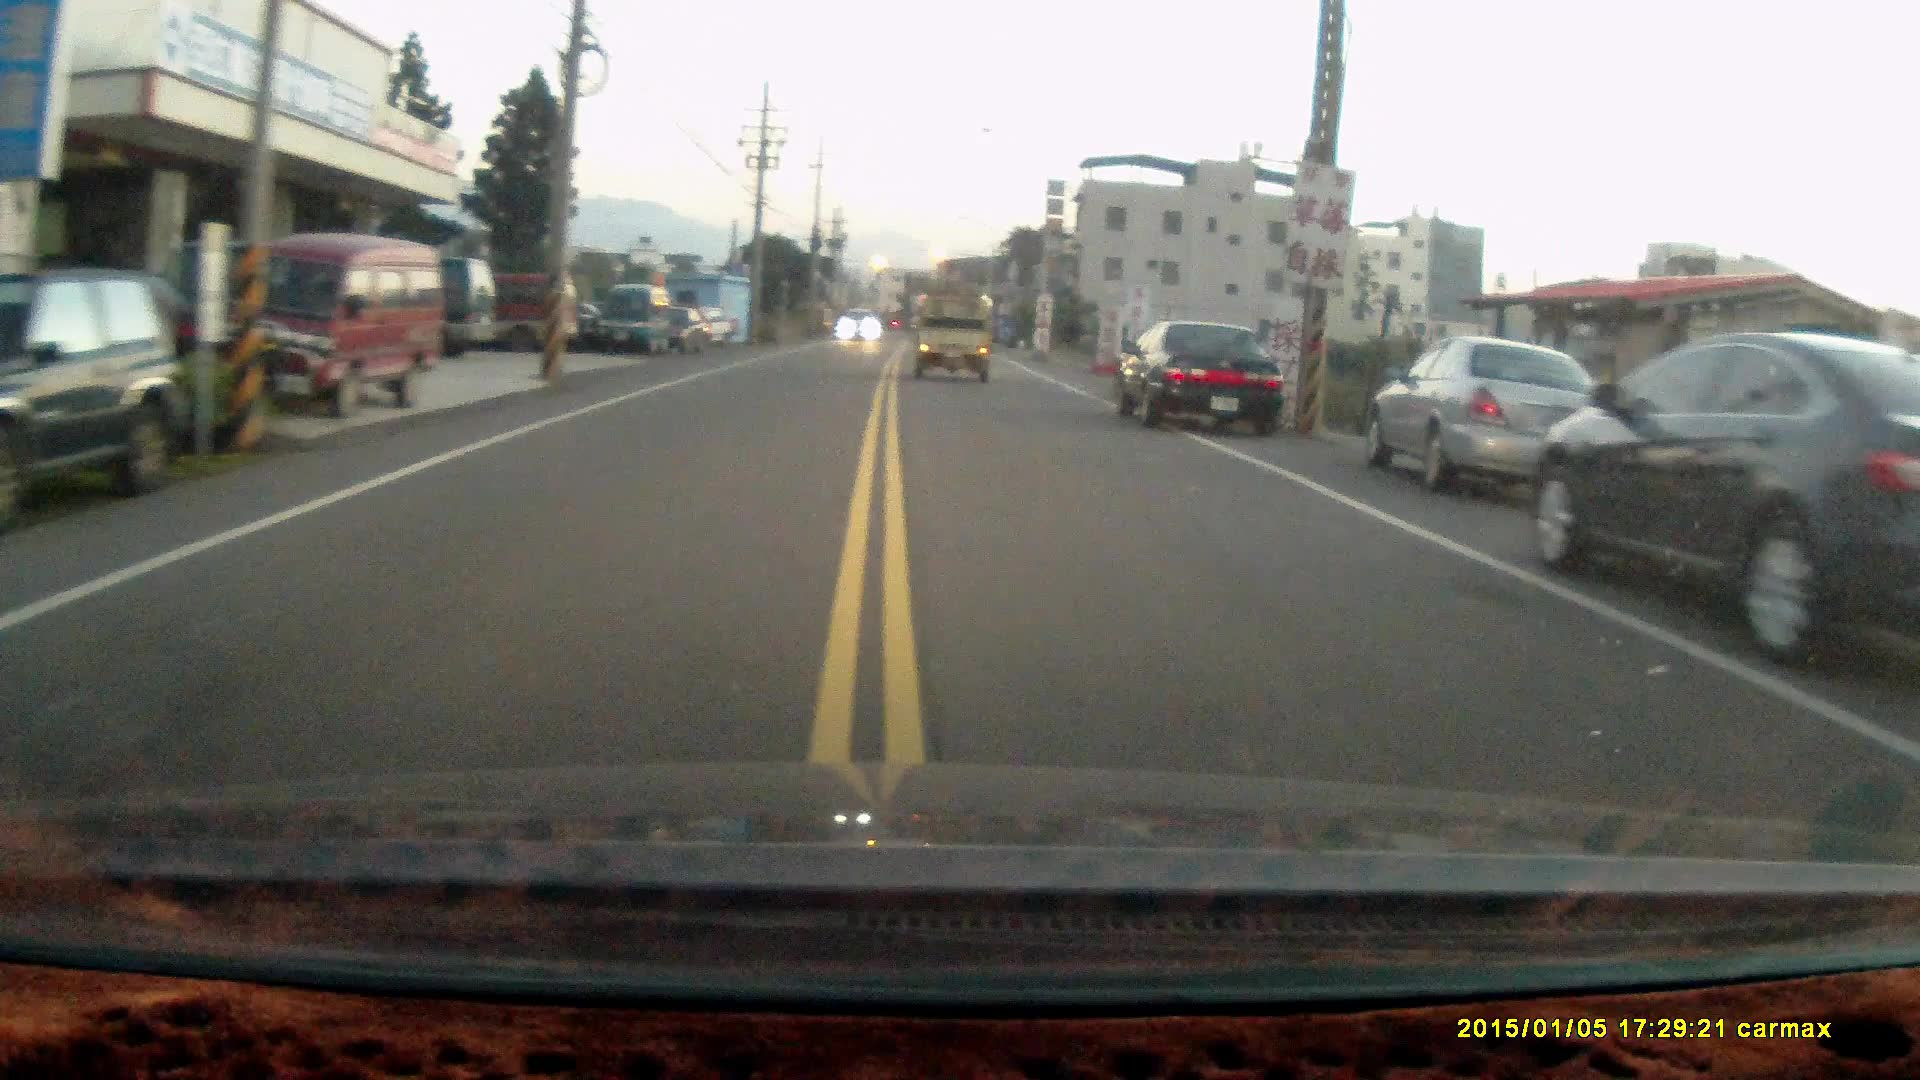vehicle: (1530, 335, 1920, 667), (1, 272, 190, 533), (202, 236, 444, 413), (1369, 336, 1627, 493), (299, 247, 505, 357), (1110, 315, 1284, 440), (415, 268, 578, 349), (918, 294, 1001, 384), (597, 286, 674, 356)
